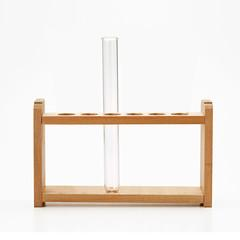Test tube: (97, 22, 126, 188)
